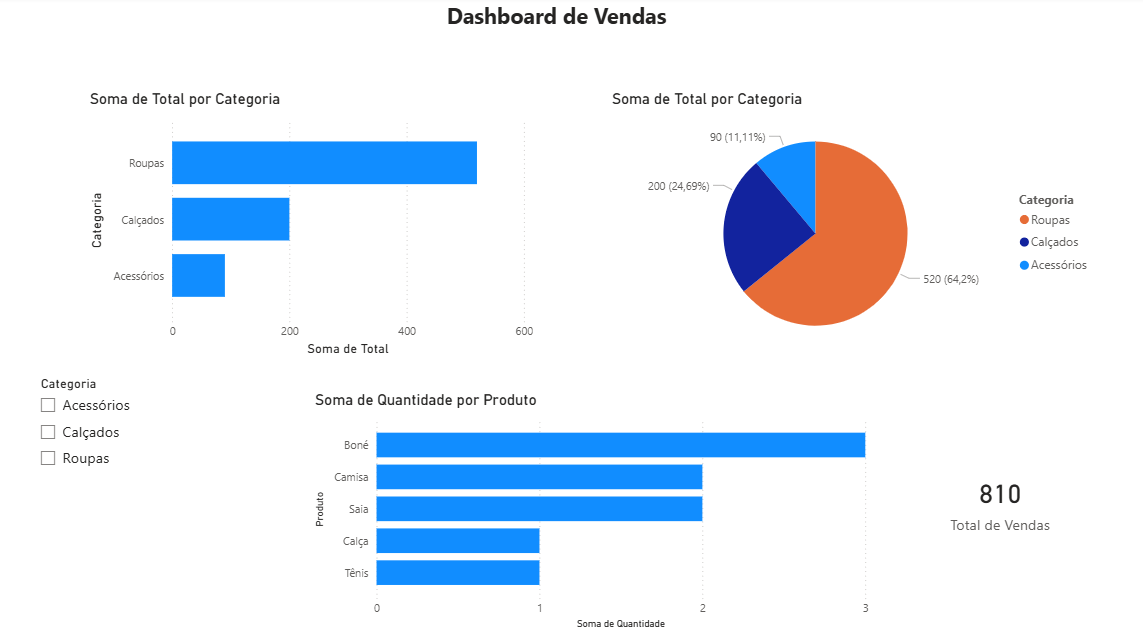

What the dashboard file says about the page in this screenshot:
{"tool":"powerbi","page":{"name":"Página 1","canvas":[1280,720],"ordinal":0},"visuals":[{"type":"barChart","fields":{"Category":["Tabela 1 (Folha1).Categoria"],"Y":["Sum(Tabela 1 (Folha1).Total)"]},"box":[97.8,104,501.6,299.7],"z":0},{"type":"barChart","fields":{"Category":["Tabela 1 (Folha1).Produto"],"Y":["Sum(Tabela 1 (Folha1).Quantidade)"]},"box":[347.8,437.9,624.2,268.6],"z":1},{"type":"pieChart","fields":{"Category":["Tabela 1 (Folha1).Categoria"],"Y":["Sum(Tabela 1 (Folha1).Total)"]},"box":[677,104,546.6,299.7],"z":2},{"type":"slicer","fields":{"Values":["Tabela 1 (Folha1).Categoria"]},"box":[35.7,416.2,167.7,127.3],"z":3},{"type":"card","fields":{"Values":["Sum(Tabela 1 (Folha1).Total)"]},"box":[1001.6,416.2,222.1,290.4],"z":4},{"type":"textbox","box":[493.8,0,278,41.9],"z":5}]}

Visuals, with their boxes in screenshot pixels (x1, y1, x2, y2), scaled from the page's 1280x720 canvas onto the 1143x642 screenshot:
barChart - Tabela 1 (Folha1).Categoria x Sum(Tabela 1 (Folha1).Total): 87:93:535:360
barChart - Tabela 1 (Folha1).Produto x Sum(Tabela 1 (Folha1).Quantidade): 311:390:868:630
pieChart - Tabela 1 (Folha1).Categoria x Sum(Tabela 1 (Folha1).Total): 605:93:1093:360
slicer - Tabela 1 (Folha1).Categoria: 32:371:182:485
card - Sum(Tabela 1 (Folha1).Total): 894:371:1093:630
textbox: 441:0:689:37
